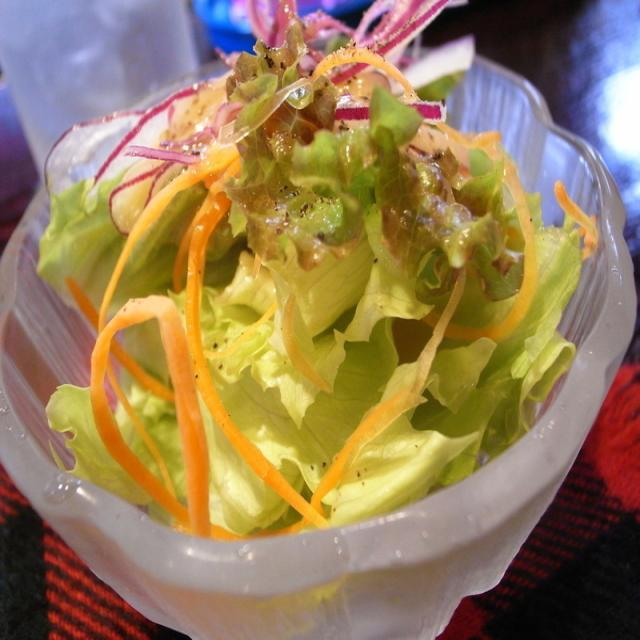Green Salad: (5, 38, 625, 628)
